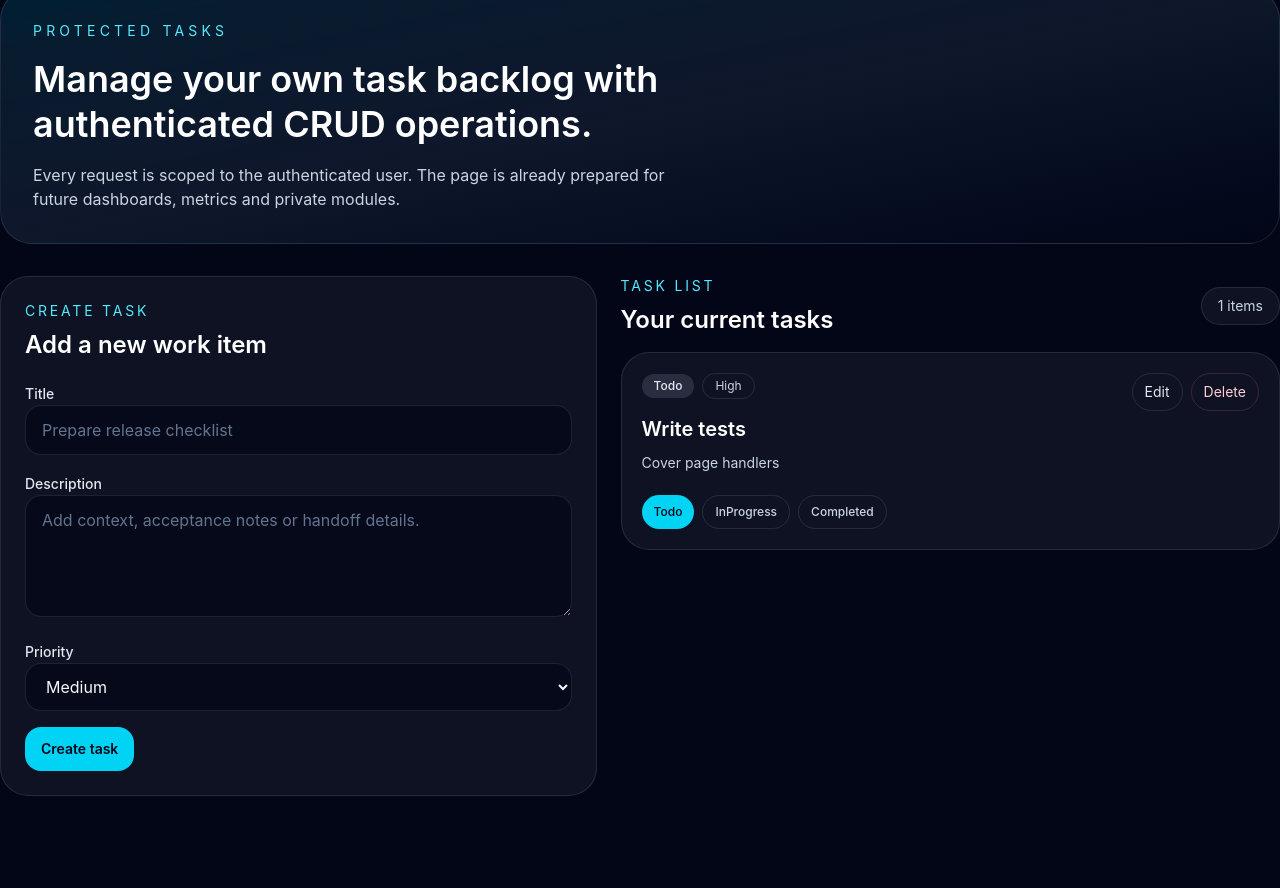
Test: TasksPage › opens edit mode and updates a task
Click the button "Edit" at coordinates (1157, 392), box [1132,373,1183,411]
(page scrolled)
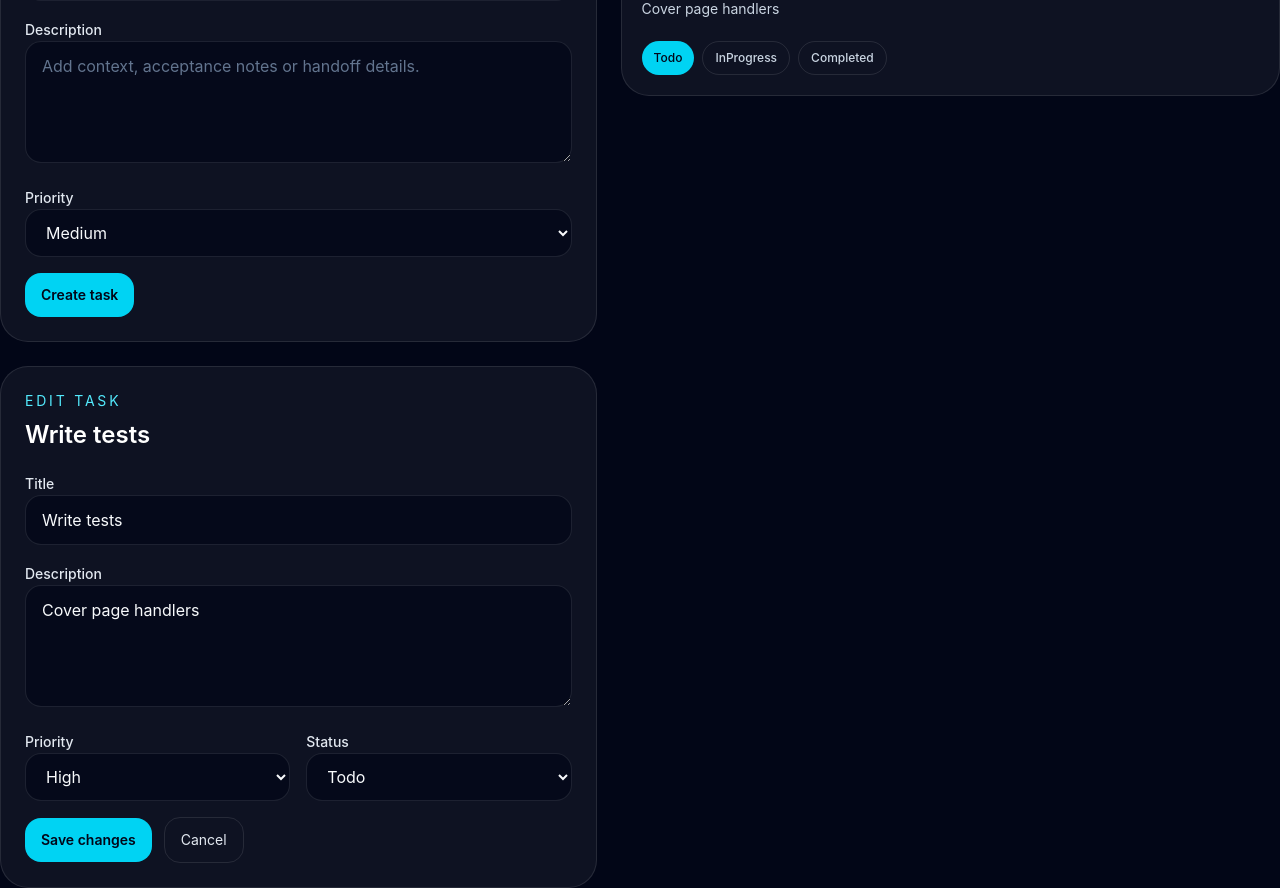
Replace the text in the field labelled "Title" below "Edit Task" with "Updated task" at coordinates (298, 520), box [25,495,572,545]
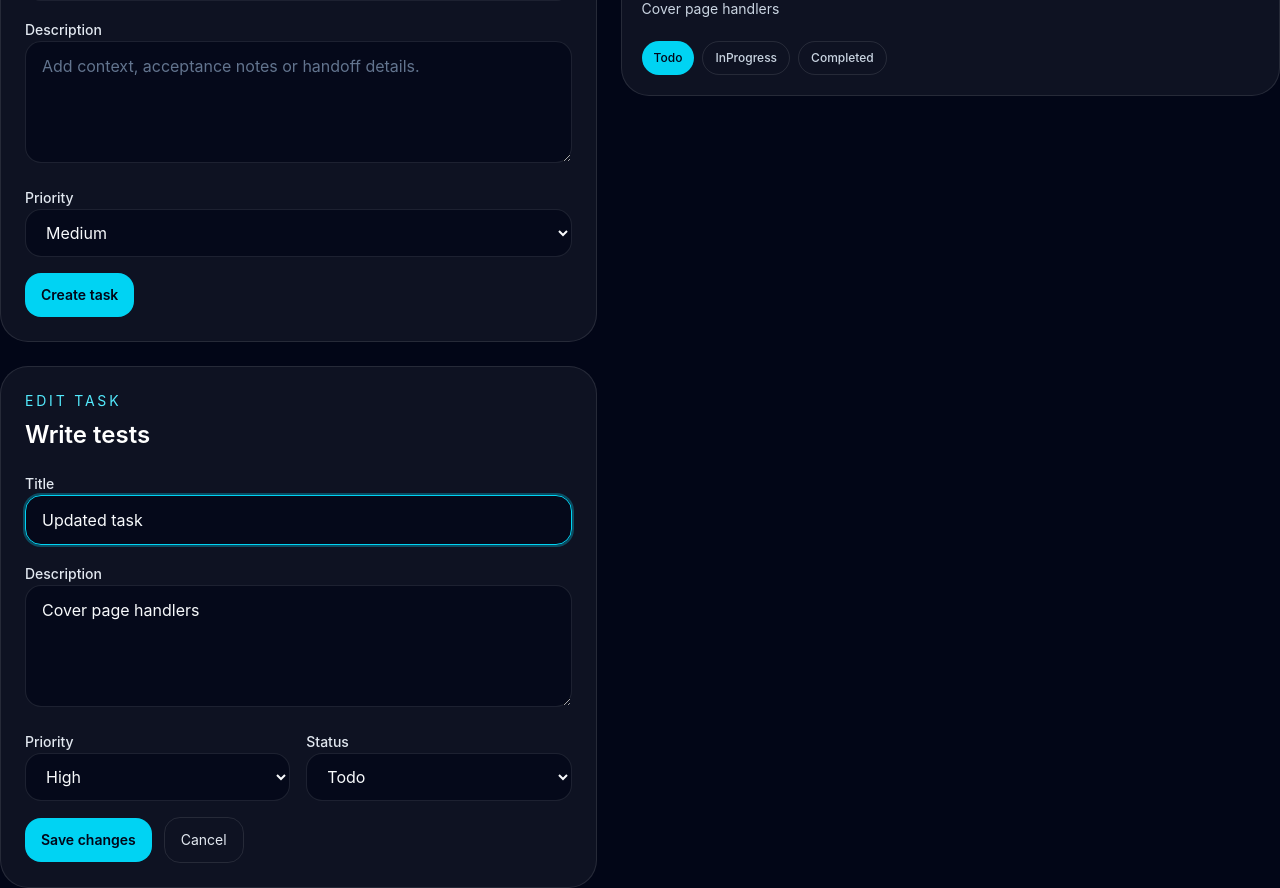
Click the button "Save changes" at coordinates (88, 840), box [25,818,152,862]
(page scrolled)
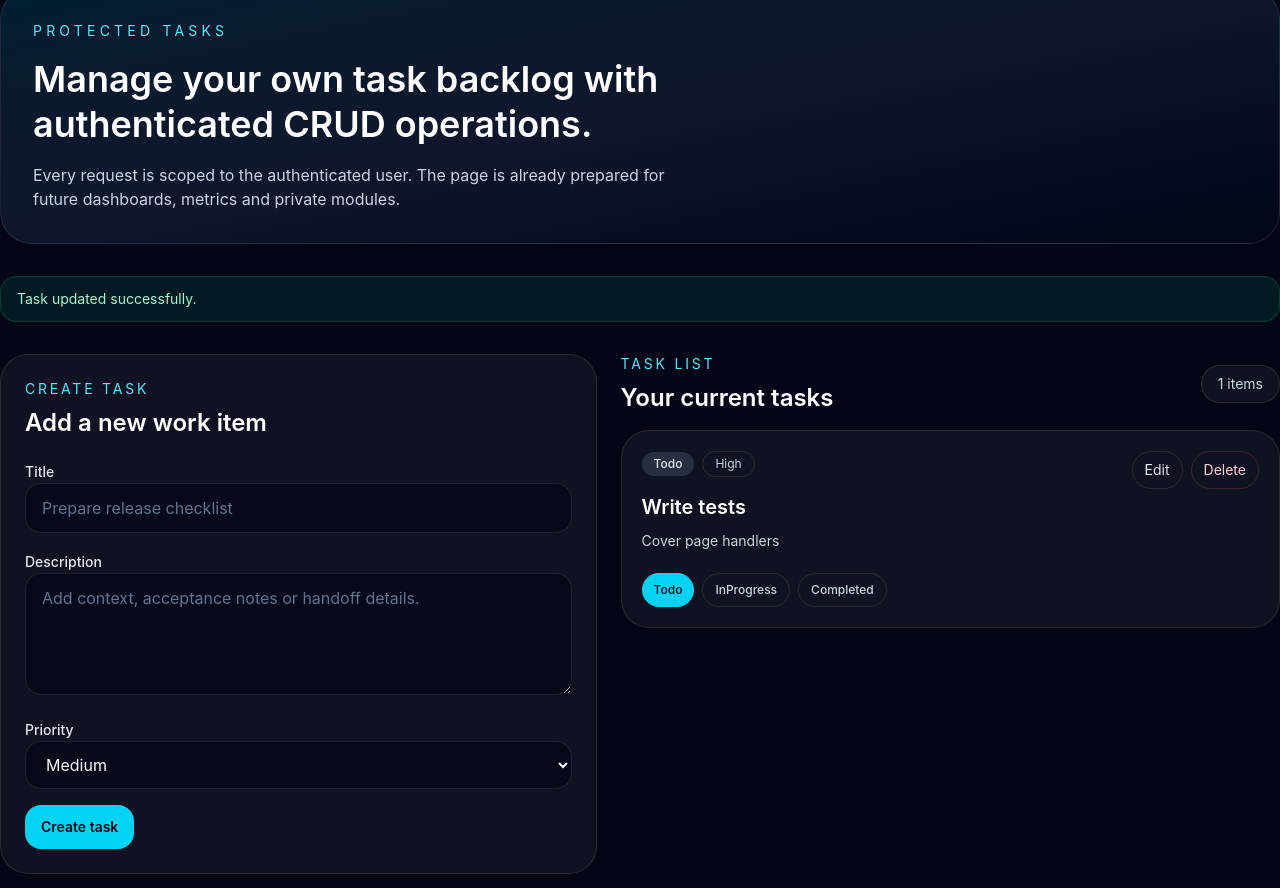
Check: the text "Task updated successfully." is shown, box [0,276,1279,322]
